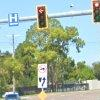traffic lights: (37, 7, 48, 27), (91, 0, 100, 23)
